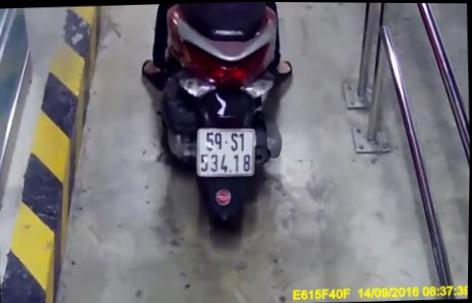LP: (196, 124, 257, 178)
